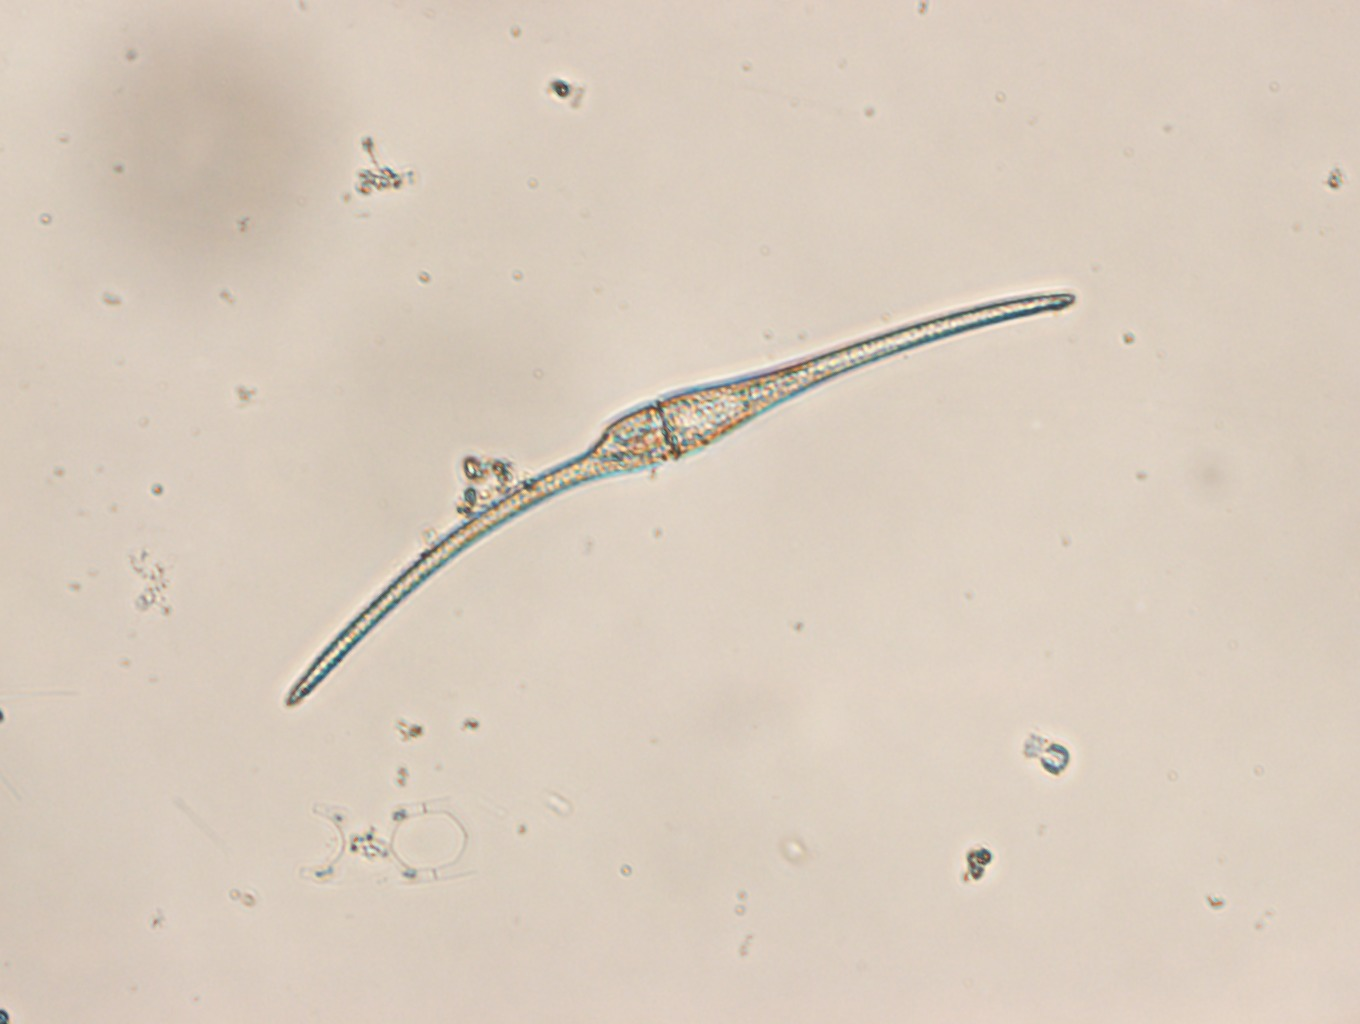ceratium fusus: (280, 291, 1077, 714)
